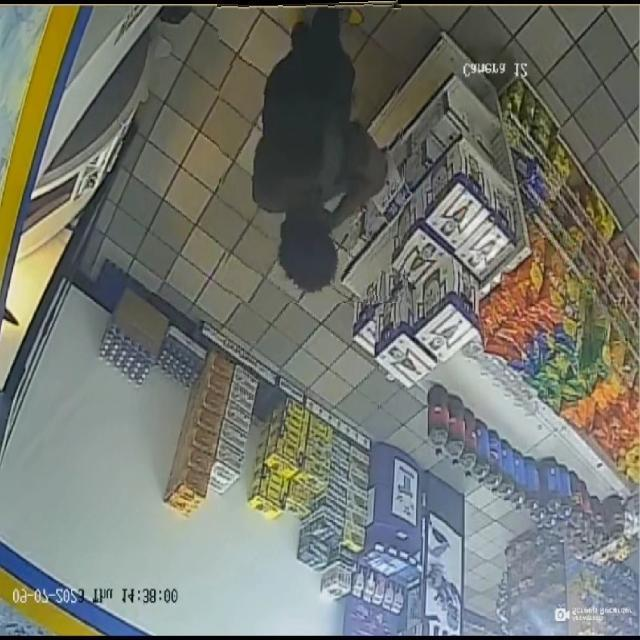normal: (219, 0, 405, 303)
